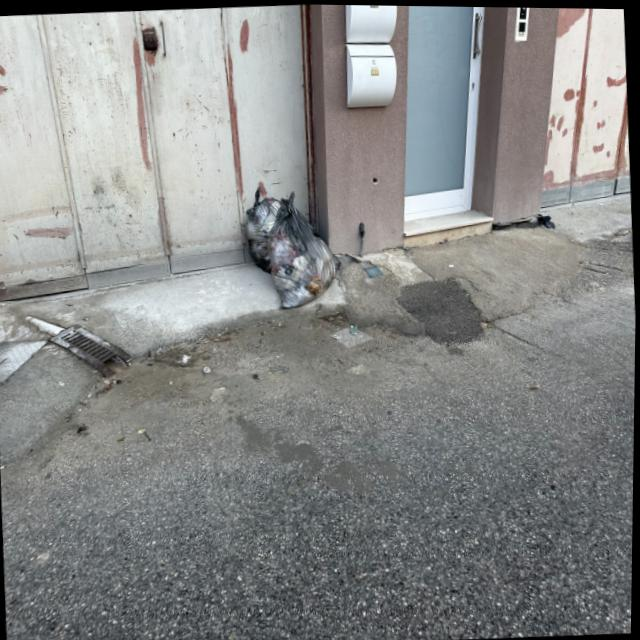Mixed Waste -Black Bags-: (246, 186, 340, 307)
